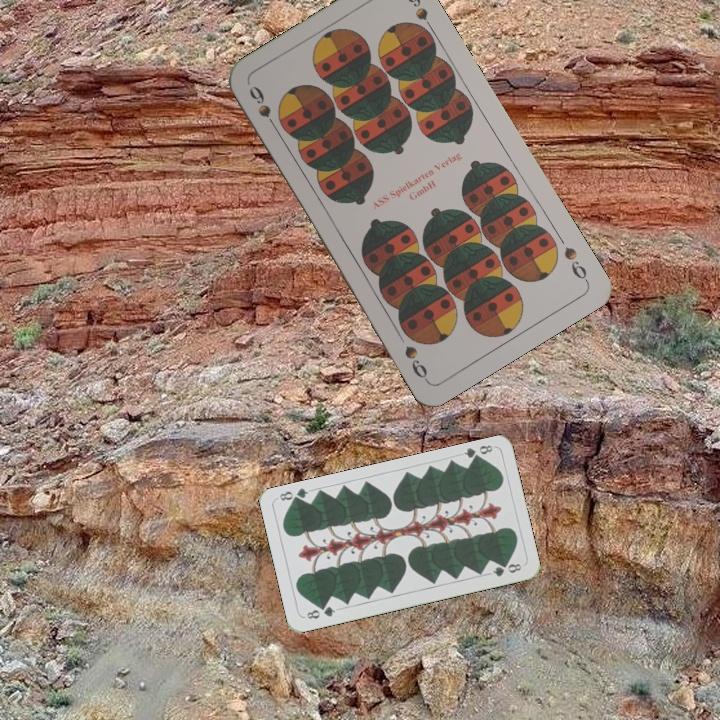G8: (460, 441, 495, 464), (302, 602, 338, 622)
S9: (244, 81, 282, 135), (559, 242, 591, 285)
